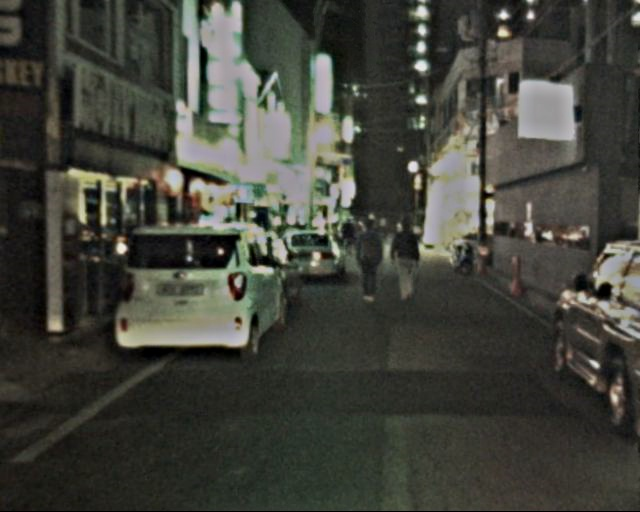person: (388, 218, 425, 308), (352, 218, 390, 303)
